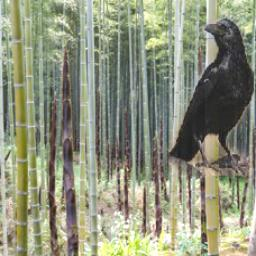Crow: (168, 20, 254, 177)
